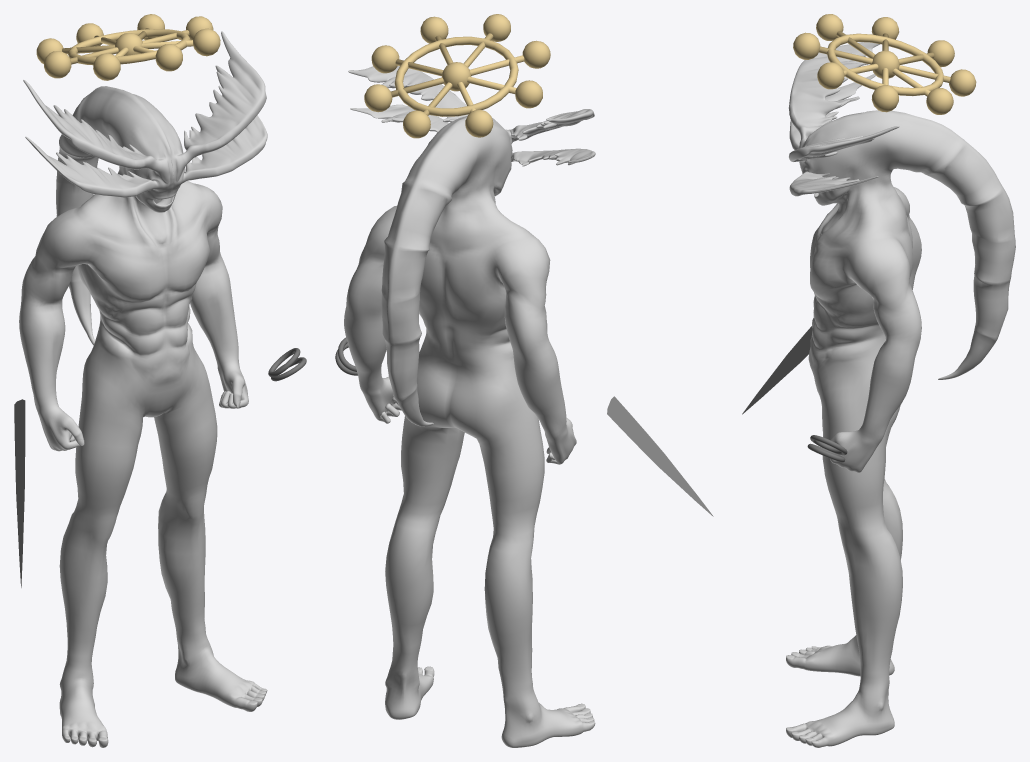
3 views of the same model, side by side, from view 1: azimuth 30°, elevation 25°; view 2: azimuth 150°, elevation 25°; view 3: azimuth 270°, elevation 25° (orthographic). The views are drawn at different scales.
Parts seen in each view (by area): view 1: Mahoraga_Low.001, Torus.004, Plane.002; view 2: Mahoraga_Low.001, Torus.004, Plane.002; view 3: Mahoraga_Low.001, Torus.004, Plane.002.
Boxes of the visible parts, bbox=[...] form: Mahoraga_Low.001: bbox=[19, 31, 267, 747]; Torus.004: bbox=[36, 14, 220, 80]; Plane.002: bbox=[14, 399, 25, 587]; Mahoraga_Low.001: bbox=[344, 66, 595, 747]; Torus.004: bbox=[364, 14, 550, 138]; Plane.002: bbox=[607, 396, 713, 516]; Mahoraga_Low.001: bbox=[786, 31, 1015, 747]; Torus.004: bbox=[793, 14, 976, 114]; Plane.002: bbox=[742, 326, 812, 414].
Bounding box in the file's own units: 18.37 × 36.58 × 13.55.
